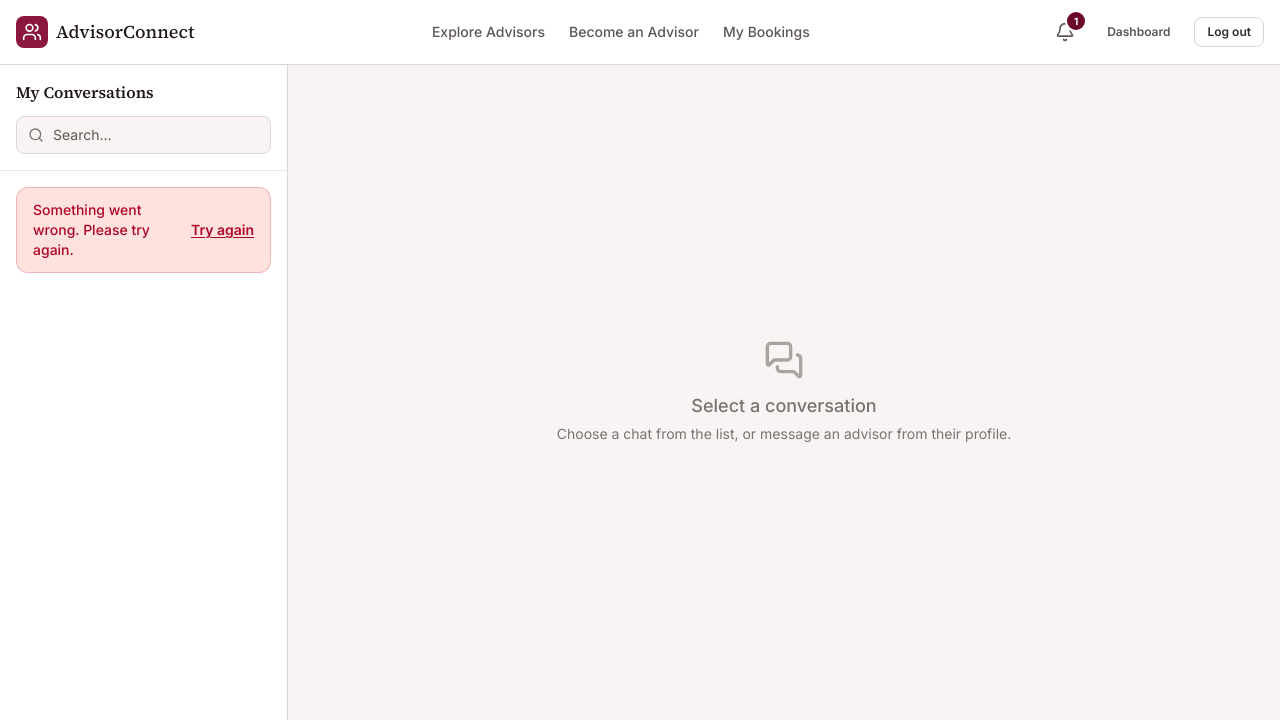
Test case: ChatPage › conversation list › shows an ErrorBanner with a working retry when the list fails
Click the button "Try again" at (222, 230), box 191,220 -> 254,240
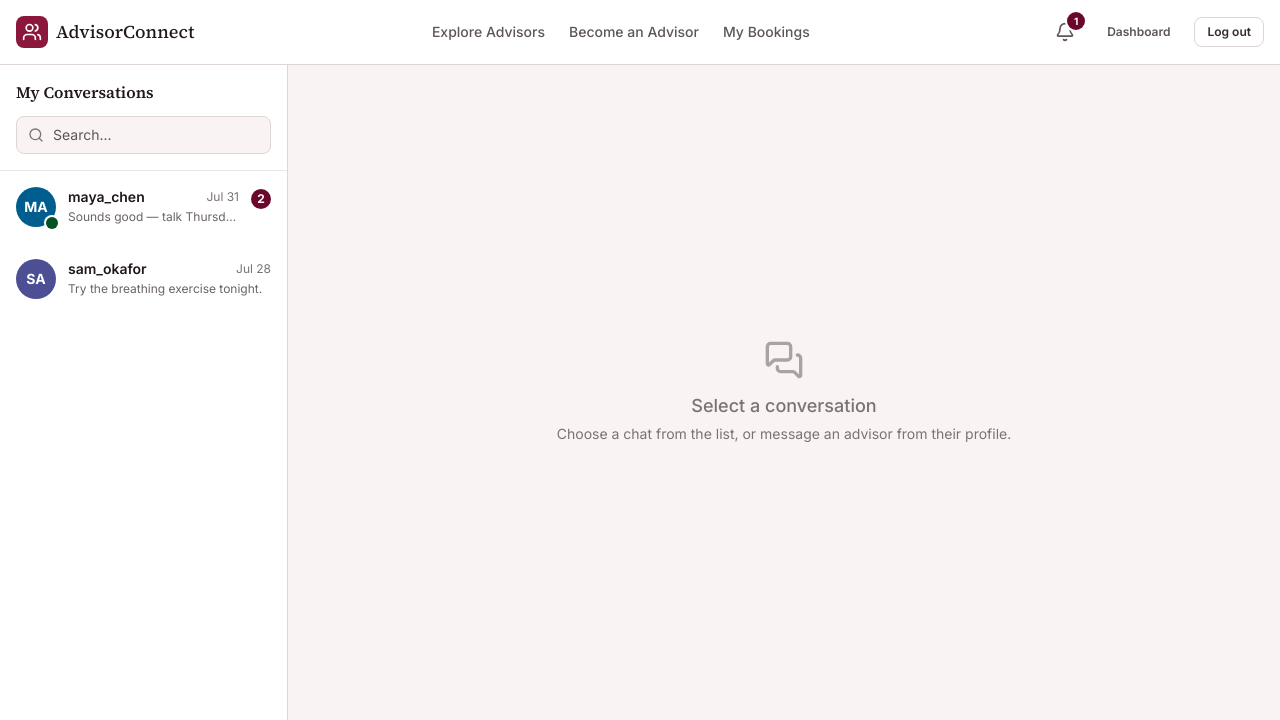
expect the button "MA maya_chen Jul 31 Sounds good — talk Thursday. 2" is shown: met, box 0,171 -> 287,243
expect the message "Something went wrong. Please try again. Try again" is gone: met
